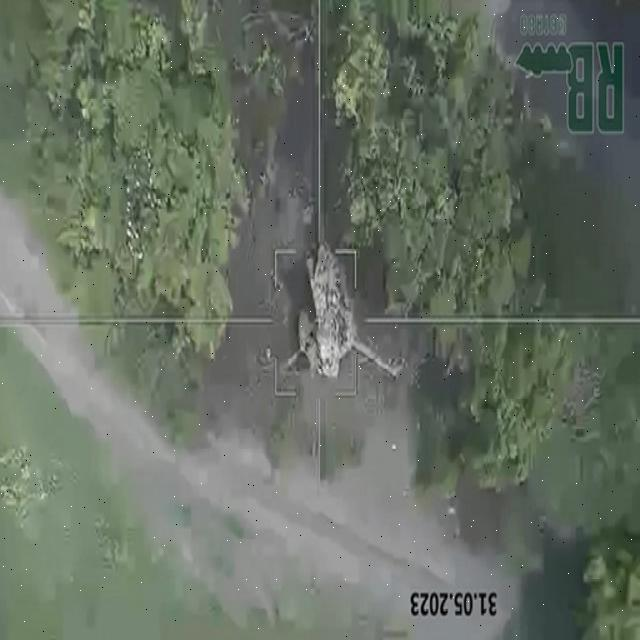ART: (286, 245, 398, 386)
